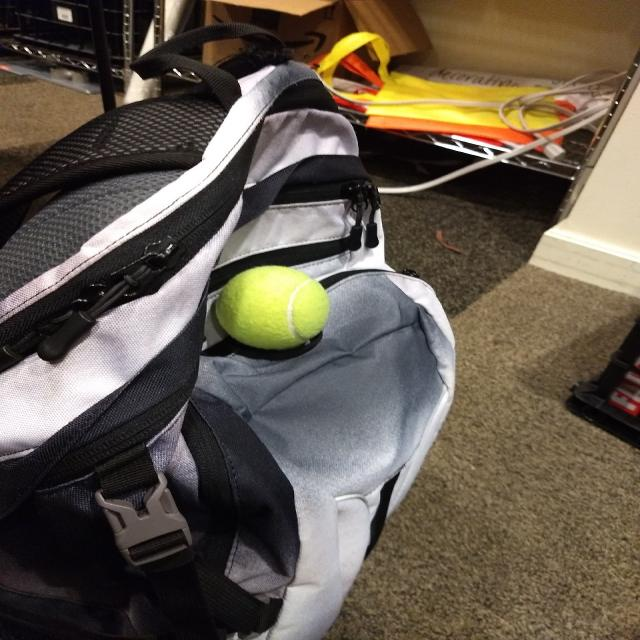Tennis-Ball: (217, 266, 329, 350)
